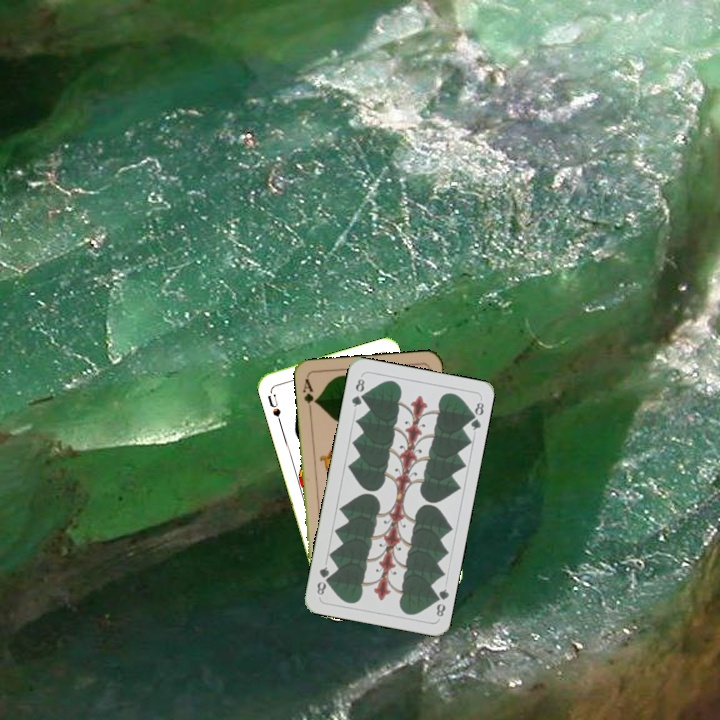G8: (429, 585, 451, 619), (347, 372, 367, 409)
GA: (298, 374, 319, 415)
SU: (263, 390, 284, 426)
